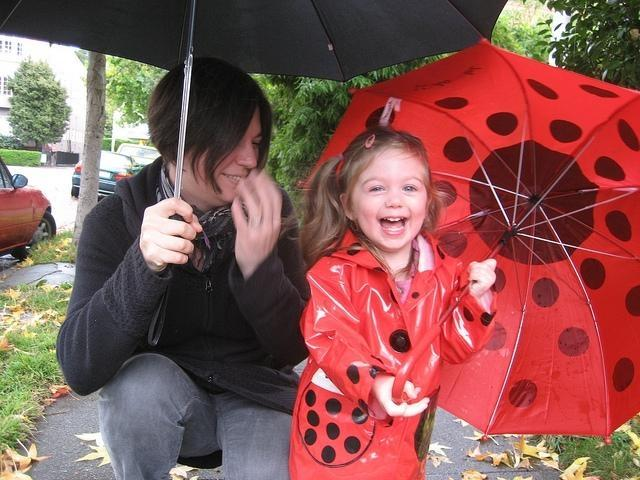car: (1, 159, 55, 254), (70, 150, 133, 198), (114, 140, 160, 166)
